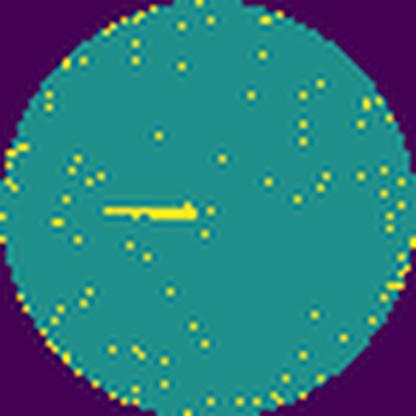Scratch: (96, 194, 205, 227)
